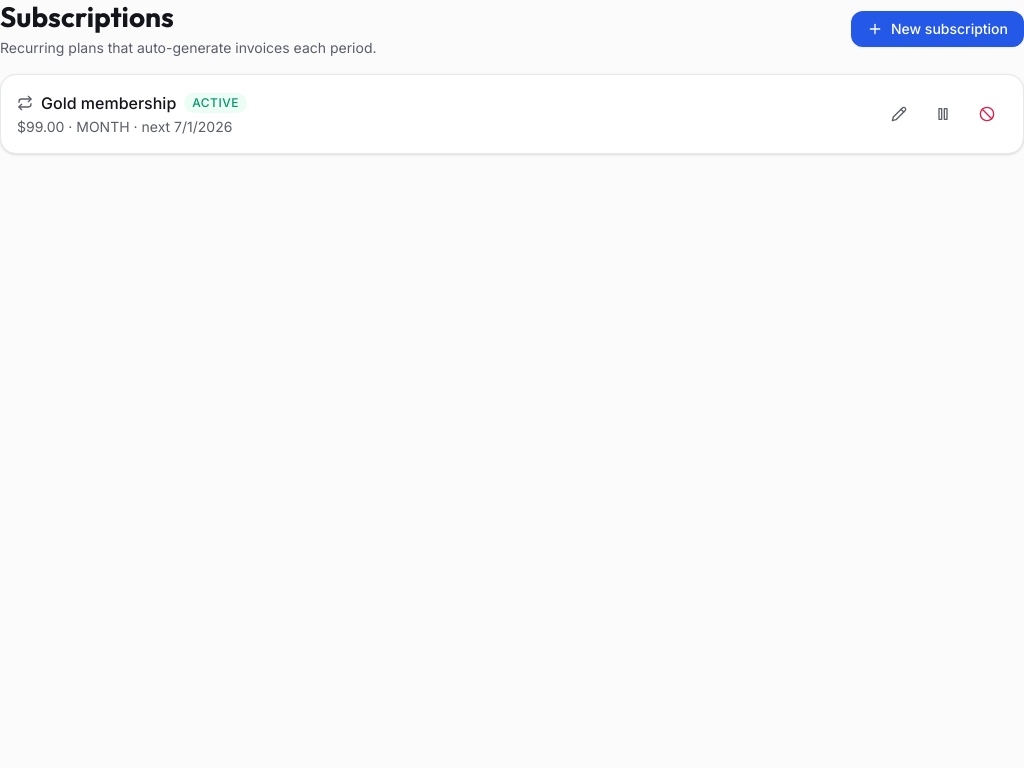
Test: SubscriptionsPage › loads the full subscription (with items) when opening edit
expect the text "Gold membership" is shown: met, box [41, 91, 176, 115]
Click the button titled "Edit".
click(899, 114)  # box [879, 98, 919, 130]
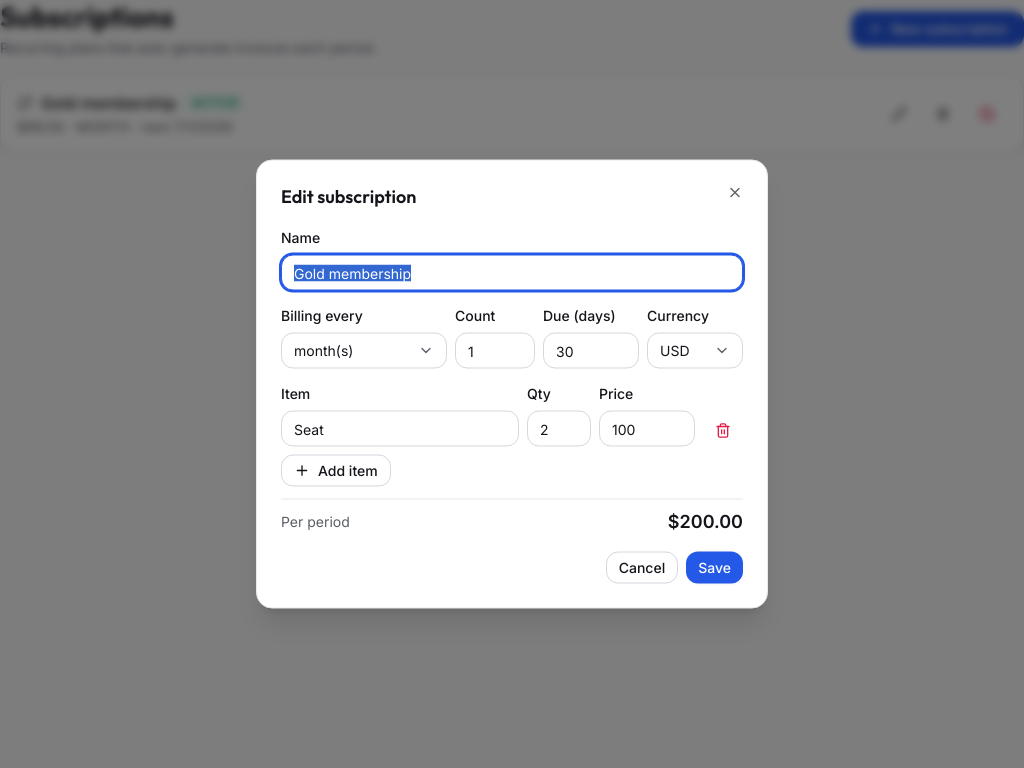
expect the field showing "Seat" below "Qty" is shown: met, box [281, 410, 519, 446]
